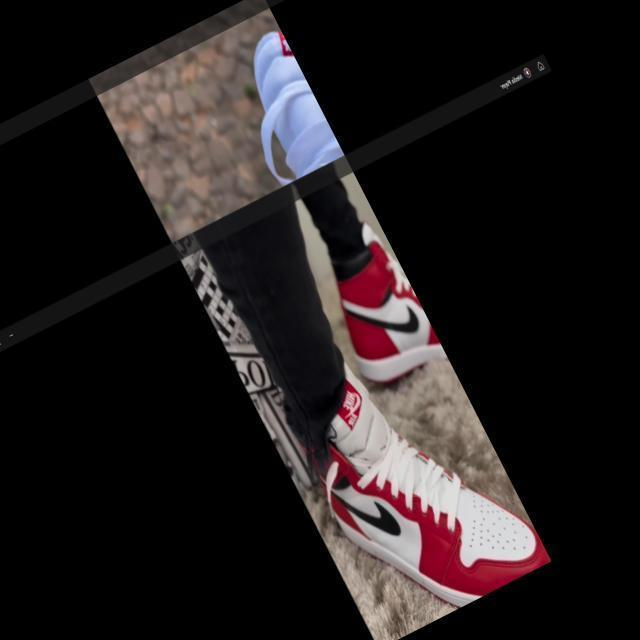nike original jordan 1: (272, 314, 552, 640)
